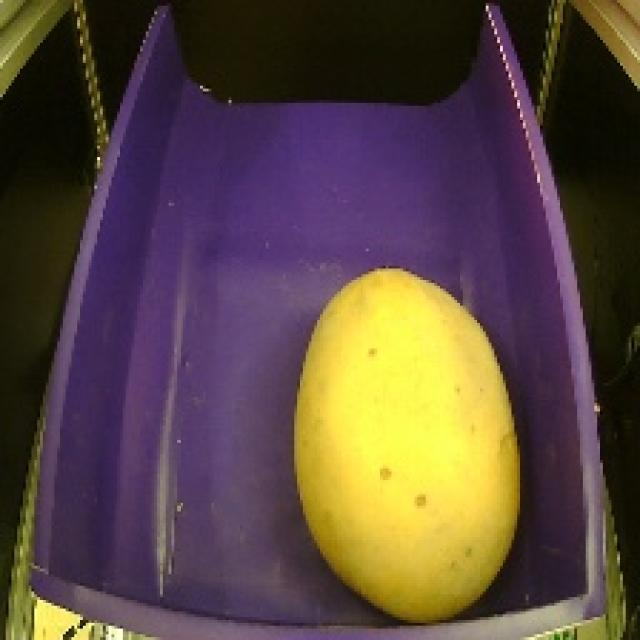full_potato: (278, 257, 538, 635)
